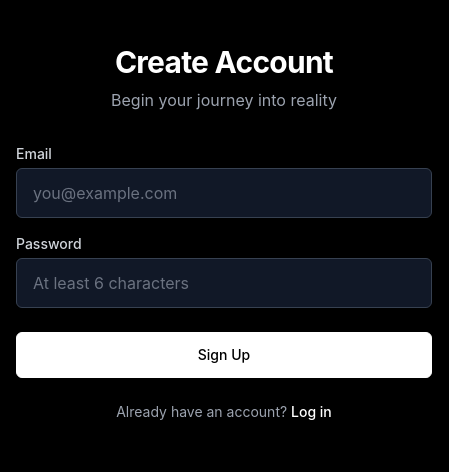
Scenario: SignupPage › shows error for network failure
This screenshot has width=449, height=472.
In the field labelled "Email": (224, 193) [16,168,432,218], type "test@example.com"
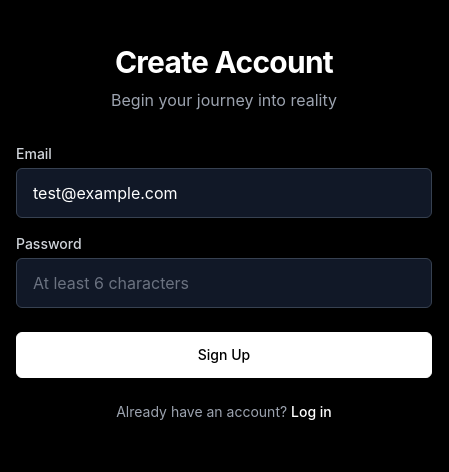
In the password field labelled "Password": (224, 283) [16,258,432,308], type "password123"
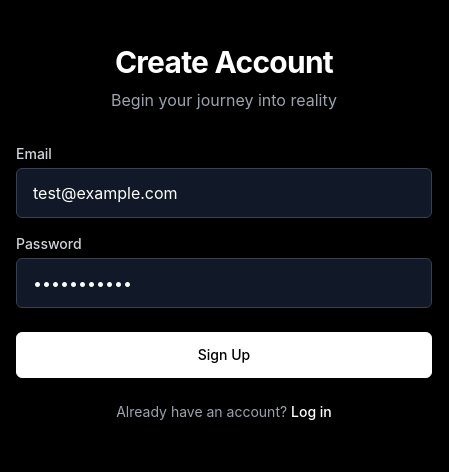
Click the button "Sign Up": (224, 355) [16,332,432,378]
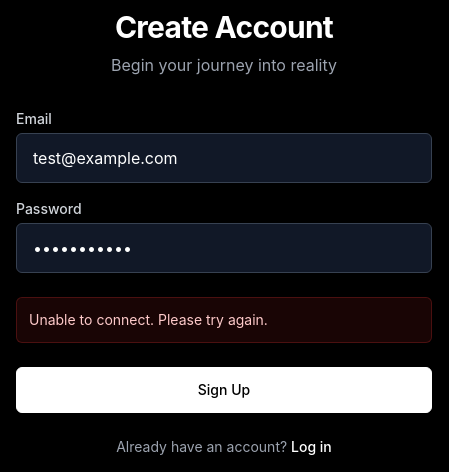
Expected: the text "Unable to connect. Please try again." is shown, [29,311,268,328]
